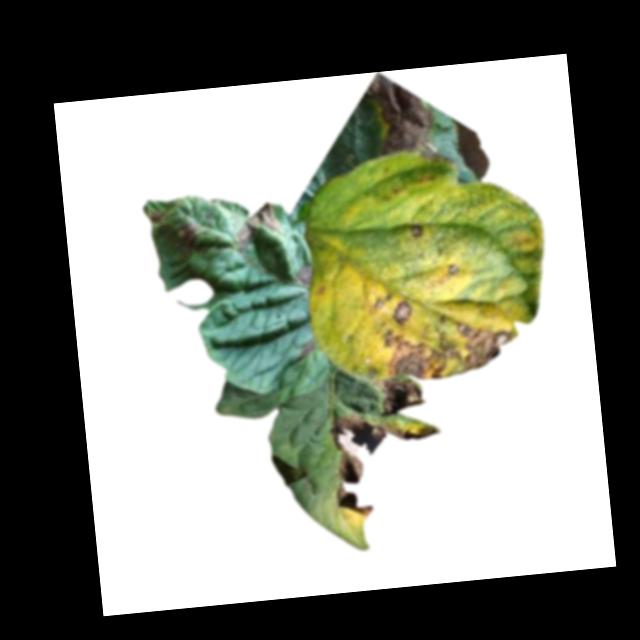Early_blight: (326, 408, 450, 526), (376, 315, 518, 383), (364, 67, 437, 159), (231, 202, 284, 249), (371, 374, 428, 416), (171, 219, 203, 251), (391, 296, 414, 327), (295, 264, 315, 290), (300, 340, 319, 359), (408, 222, 424, 241), (147, 210, 165, 225), (447, 263, 460, 278)
